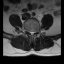CCS_stenosis: (31, 30, 32, 37)
LFS_stenosis: (34, 29, 36, 35)
LLS_severe_stenosis: (32, 29, 34, 35)
RFS_normal: (27, 28, 29, 35)
RLS_stenosis: (29, 29, 31, 35)
